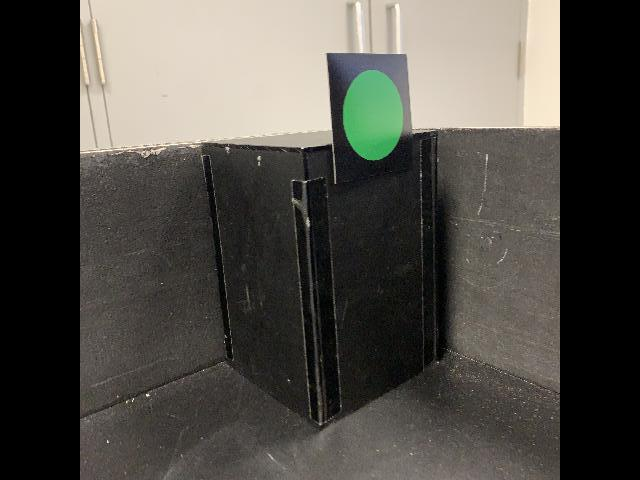go: (325, 51, 416, 185)
